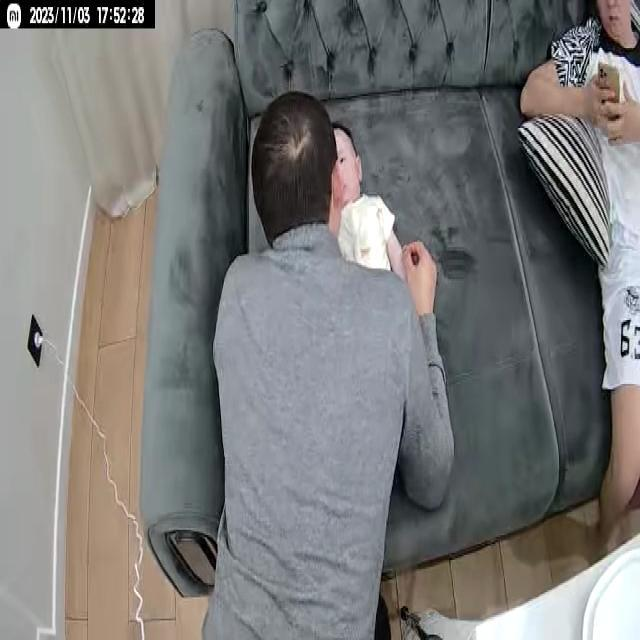baby: (326, 122, 411, 286)
